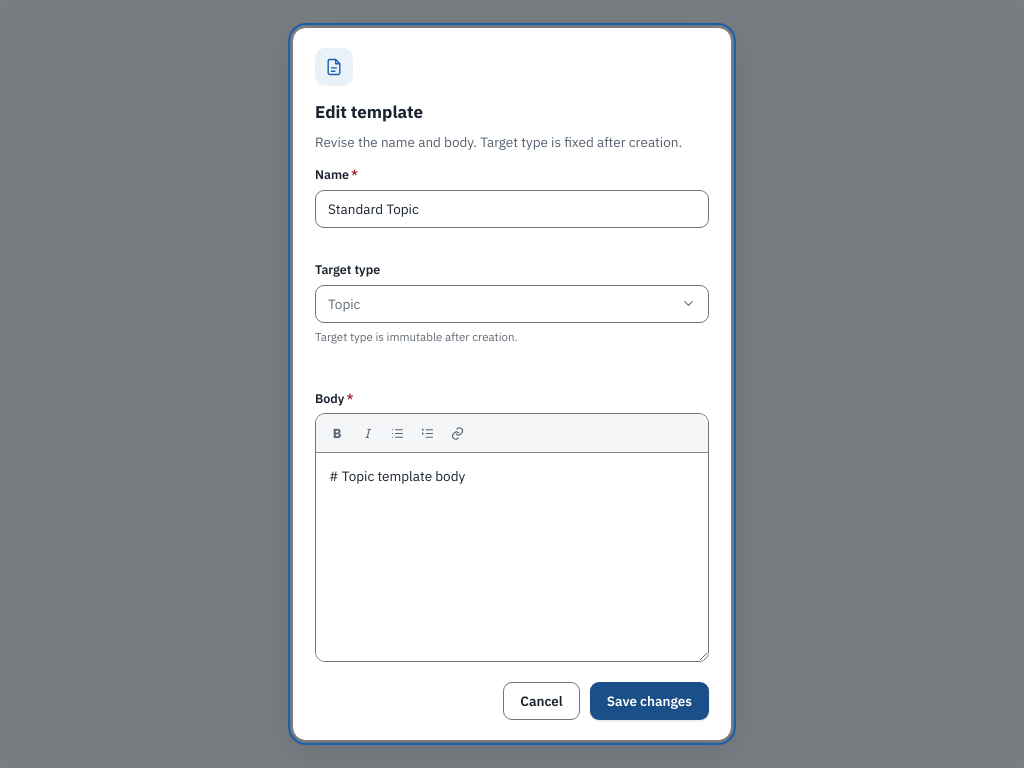
Test: TemplateFormDialog (P15e) › surfaces a 409 (deprecated template) inline
Expected: the text box showing "# Topic template body" is shown, [316,453,708,661]
Click the button "Save changes": (649, 701) [590,682,709,720]
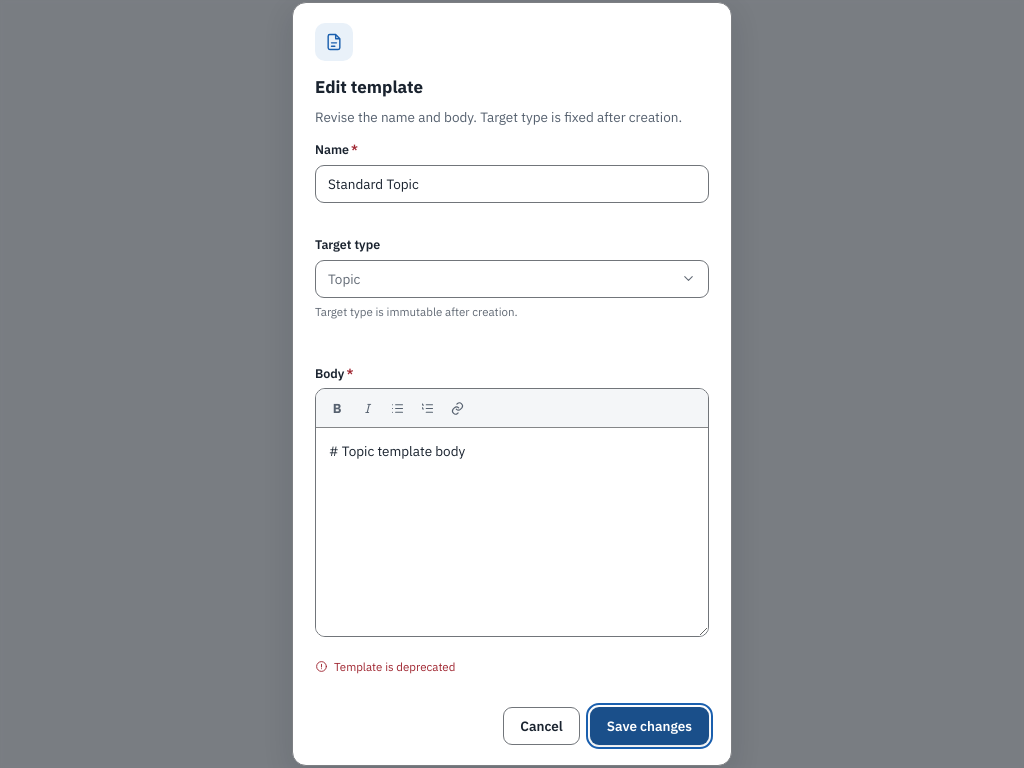
Now the message reads "Template is deprecated", box [334,659,455,674]
